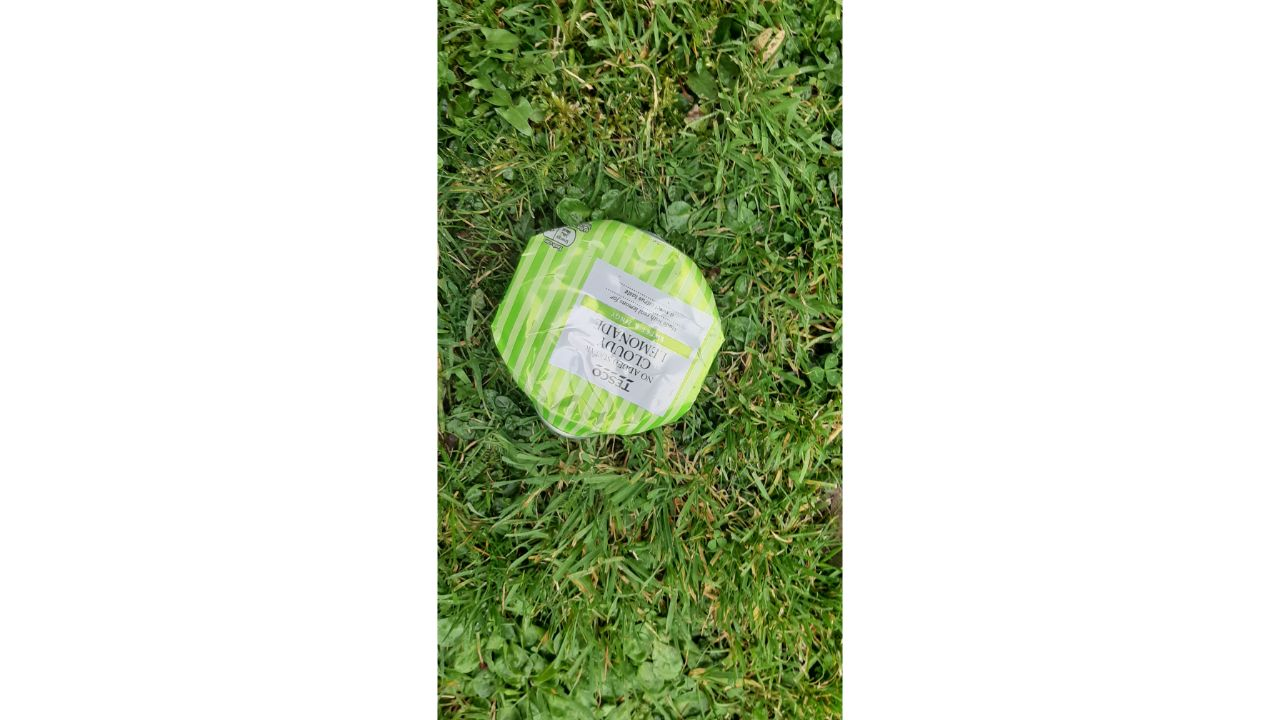Can: (485, 224, 725, 441)
